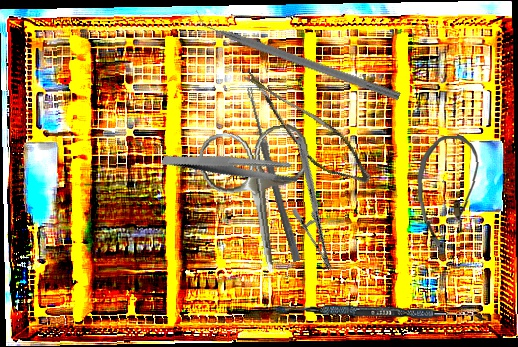Cannula: (415, 134, 483, 249)
Chopper: (190, 5, 405, 102)
Dressing Forceps: (160, 119, 303, 213)
Iris Scissors: (195, 122, 325, 281)
Micro Scissor: (222, 69, 387, 192)
Needle Holder: (247, 135, 382, 273)
Spatula Surgical: (277, 304, 487, 320)
Surgical Spoon: (243, 86, 303, 263)
